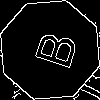B: (25, 25, 79, 71)
